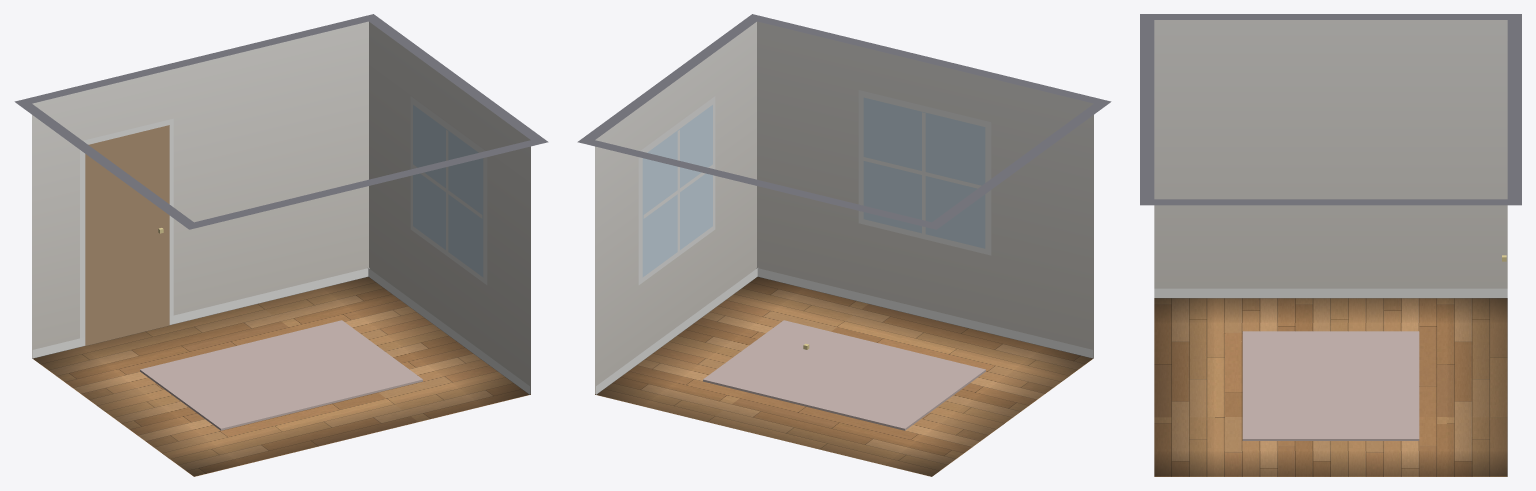
The model's file is kitchen.glb.
The picture shows the model from 3 angles, left to right: view 1: azimuth 30°, elevation 25°; view 2: azimuth 150°, elevation 25°; view 3: azimuth 270°, elevation 25°; orthographic projection. The views are drawn at different scales.
Visible parts, largest first — view 1: Home; view 2: Home; view 3: Home.
Part boxes in pixels (left/top/right/bottom): Home: left=14, top=14, right=548, bottom=476; Home: left=577, top=14, right=1111, bottom=476; Home: left=1140, top=14, right=1521, bottom=476.
Bounding box in the file's own units: 3.84 × 2.6 × 3.24.
Materials: 10 (1 with a texture image).
